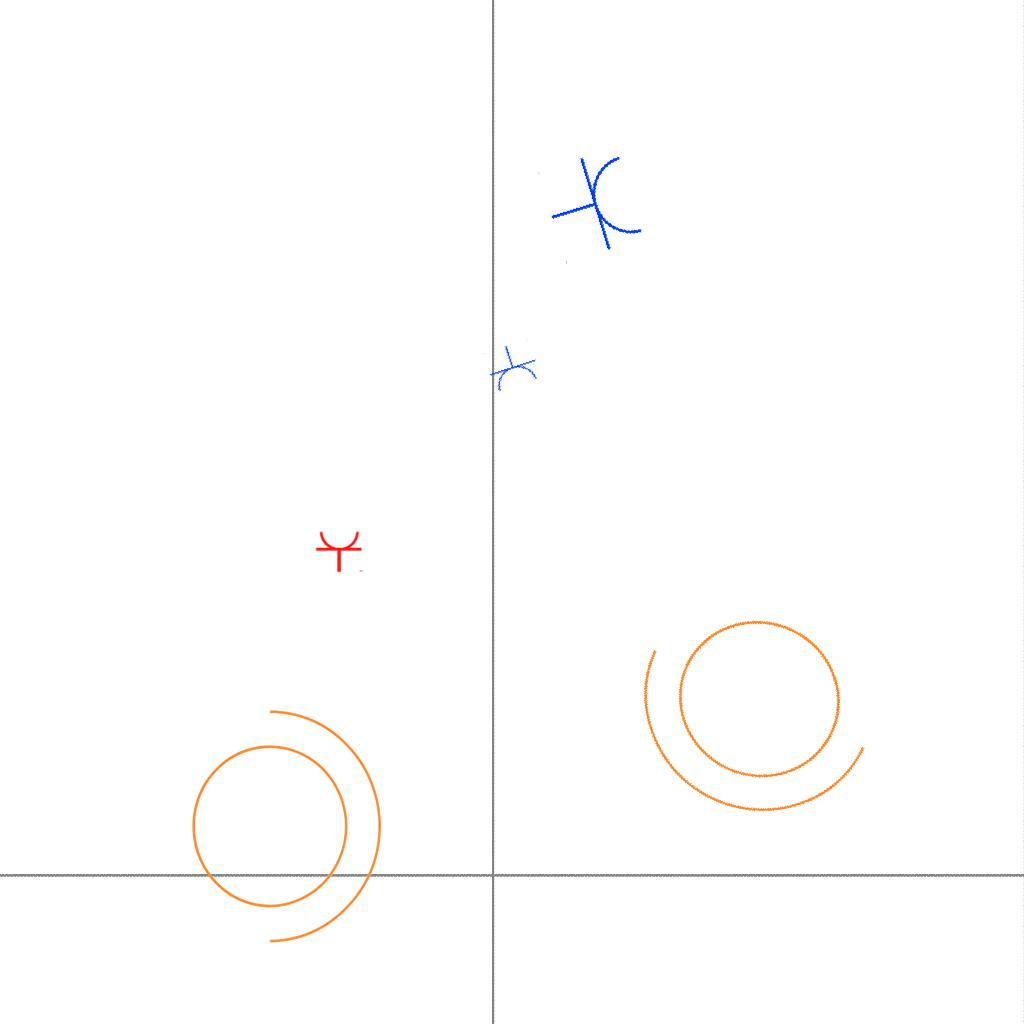Scheinwerfer_fuer_Alarmbeleuchtung: (593, 552, 929, 869), (167, 688, 392, 952)
Schukosteckdose_einfach: (536, 144, 650, 267), (481, 338, 543, 395), (315, 530, 365, 573)
